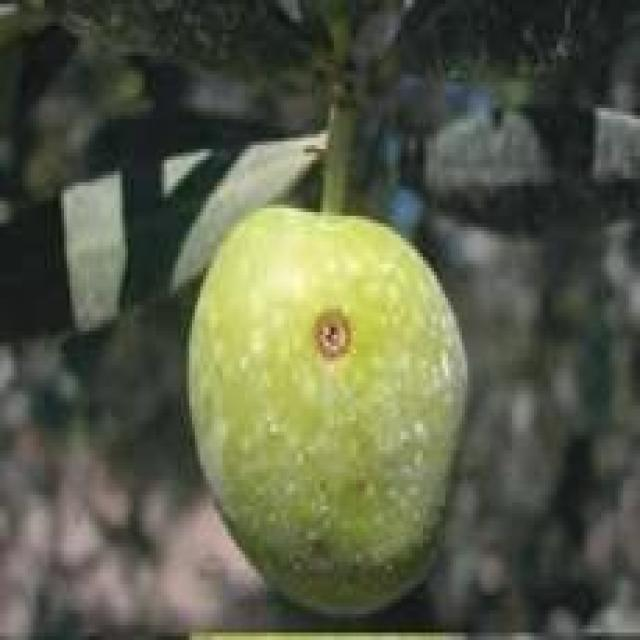Anthracnose: (186, 208, 464, 610)
